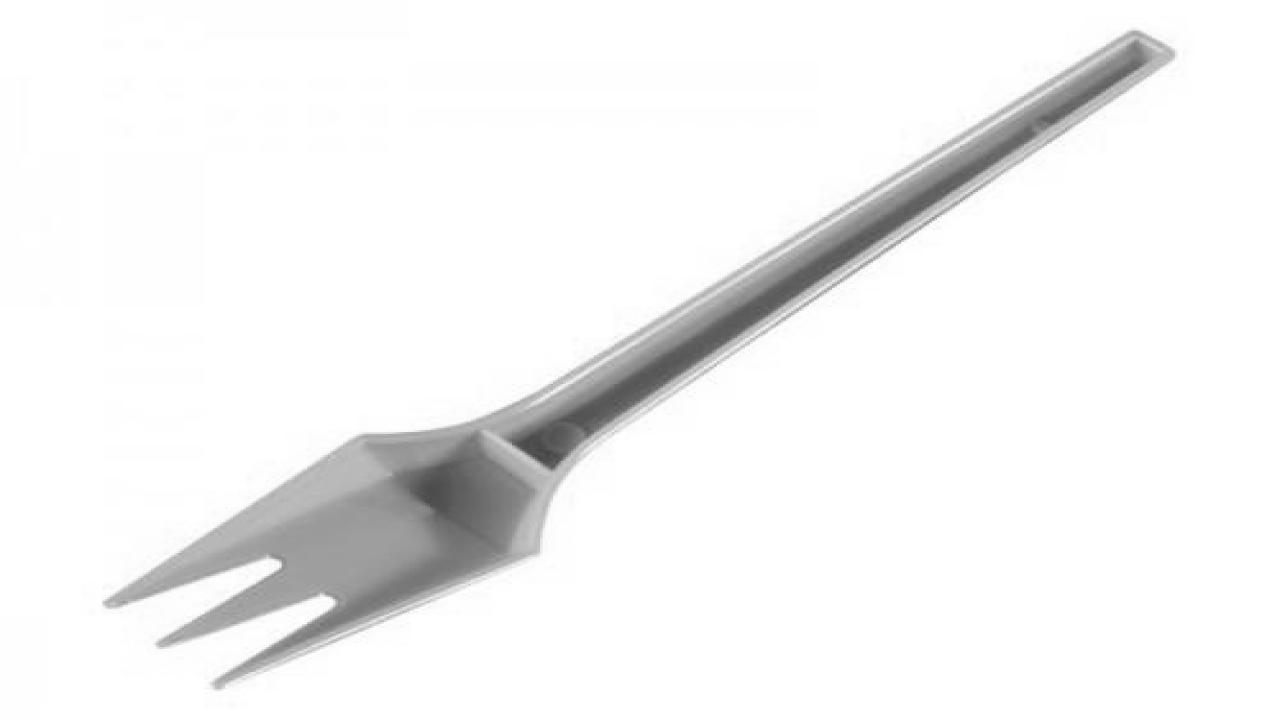fork: (100, 27, 1175, 689)
